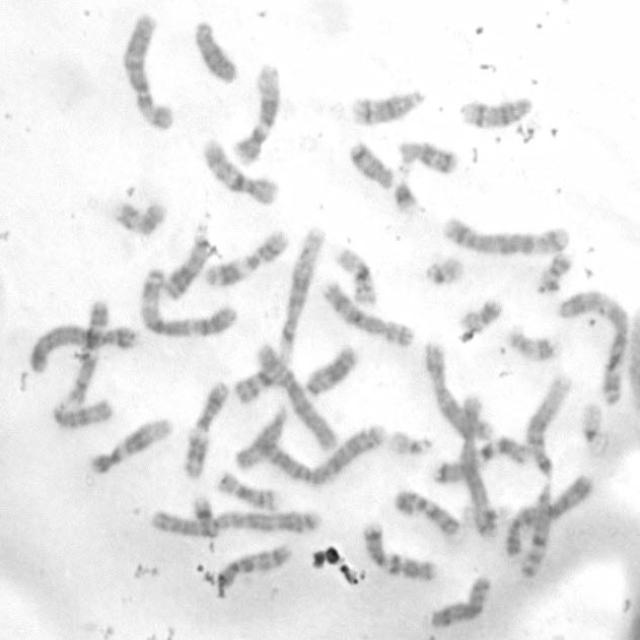A1: (231, 225, 326, 408), (515, 368, 575, 584)
A2: (261, 422, 388, 487), (150, 506, 324, 540)
A3: (555, 288, 630, 408), (138, 267, 240, 340)
B4: (503, 471, 595, 562), (29, 321, 141, 376)
B5: (456, 391, 500, 542), (438, 215, 573, 255)
C10: (196, 136, 283, 209), (217, 543, 292, 588)
C11: (203, 227, 290, 287), (182, 378, 230, 480)
C12: (231, 62, 287, 166), (86, 415, 174, 477)
C6: (253, 342, 339, 454), (116, 10, 176, 132)
C7: (430, 436, 532, 486), (361, 519, 439, 582)
C8: (316, 277, 415, 348), (429, 574, 492, 631)
C9: (65, 297, 111, 407), (392, 487, 462, 542)
D13: (160, 212, 213, 304), (304, 343, 360, 399)
D14: (348, 86, 429, 129), (456, 92, 536, 131)
D15: (231, 400, 289, 470), (50, 398, 114, 432)
E16: (333, 243, 377, 307), (213, 469, 279, 511)
E17: (504, 323, 560, 364), (114, 200, 170, 238)
E18: (344, 140, 393, 193), (396, 140, 458, 175)
F19: (578, 400, 613, 459), (460, 505, 514, 536)
F20: (460, 295, 504, 333), (538, 252, 574, 291)
G21: (189, 493, 216, 554), (392, 165, 420, 213)
G22: (385, 427, 436, 458), (422, 258, 465, 285)
X: (422, 338, 494, 442)
Y: (193, 17, 239, 86)
